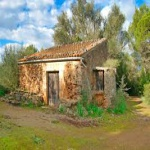House: (16, 38, 120, 124)
